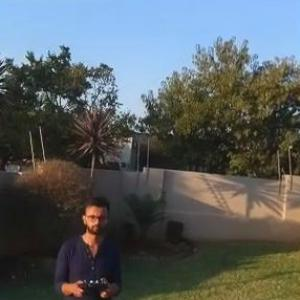follow: (43, 191, 120, 299)
